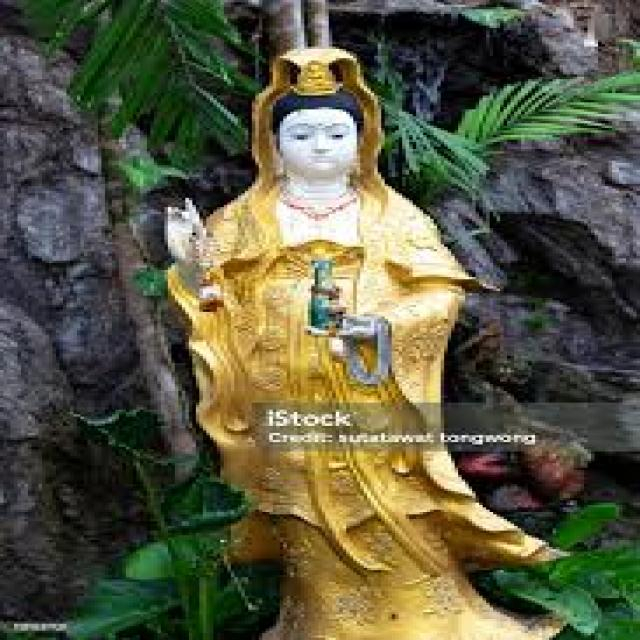Guan Yin: (152, 44, 473, 472)
